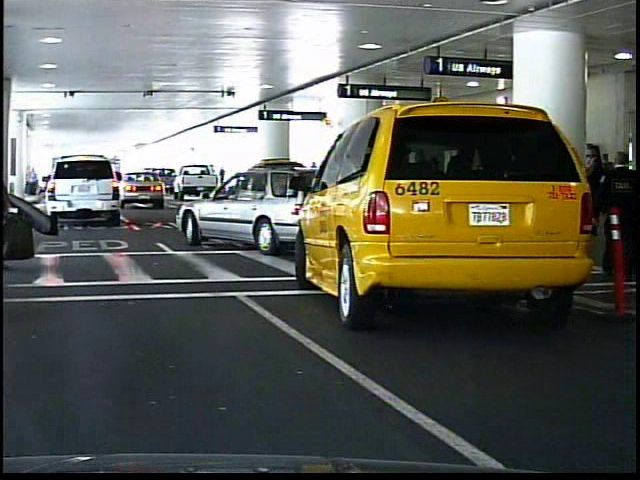person: (575, 140, 614, 287), (596, 148, 638, 278)
